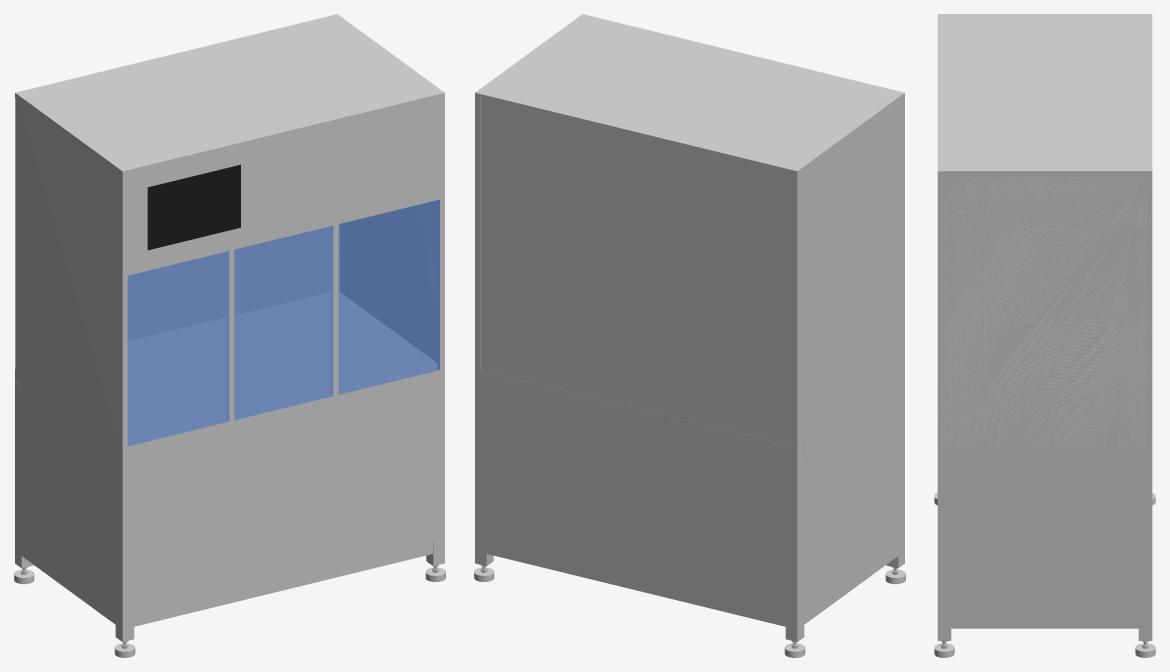
The picture shows the model from 3 angles, left to right: view 1: azimuth 30°, elevation 25°; view 2: azimuth 150°, elevation 25°; view 3: azimuth 270°, elevation 25°; orthographic projection.
Visible parts, largest first — view 1: SketchUp (×6), OP90 (×5), leg (×3); view 2: OP90 (×3), SketchUp, leg (×3), top_rail; view 3: OP90 (×2), SketchUp, leg (×2).
Part boxes in pixels (bbox=[...]): SketchUp (×6): bbox=[15, 14, 444, 626]; OP90 (×5): bbox=[18, 17, 439, 444]; leg (×3): bbox=[15, 381, 444, 641]; OP90 (×3): bbox=[480, 17, 901, 445]; SketchUp: bbox=[475, 14, 904, 626]; leg (×3): bbox=[475, 381, 904, 641]; top_rail: bbox=[475, 369, 803, 459]; OP90 (×2): bbox=[943, 16, 1146, 446]; SketchUp: bbox=[937, 14, 1152, 628]; leg (×2): bbox=[937, 459, 1152, 640].
Size of the model in its own units: 55.65 by 32.57 by 78.71.
